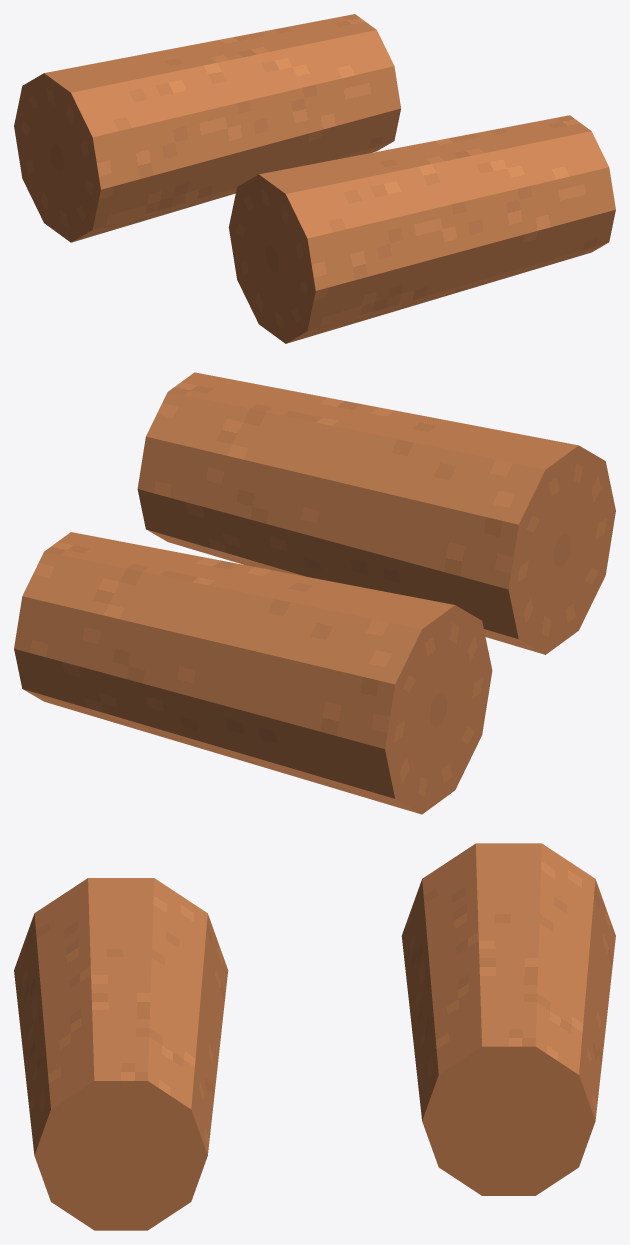
Rendered from ear_plugs.glb.
3 renders of one model, top to bottom at view 1: azimuth 30°, elevation 25°; view 2: azimuth 150°, elevation 25°; view 3: azimuth 270°, elevation 25°, orthographic. The views are drawn at different scales.
Parts seen in each view (by area): view 1: block_foam earplug (×2); view 2: block_foam earplug (×2); view 3: block_foam earplug (×2).
Boxes of the visible parts, bbox=[...] form: block_foam earplug (×2): bbox=[14, 14, 615, 343]; block_foam earplug (×2): bbox=[14, 372, 615, 814]; block_foam earplug (×2): bbox=[14, 843, 615, 1230].
Bounding box in the file's own units: 0.0337 × 0.0132 × 0.039.
Materials: 1 (1 with a texture image).
